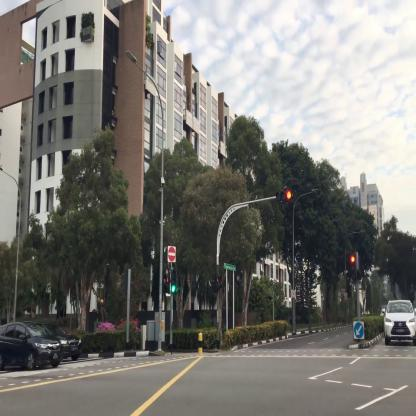red_traffic_light: (276, 190, 292, 199), (350, 253, 356, 277)
